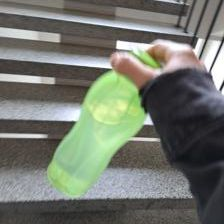bottle: (42, 47, 159, 198)
